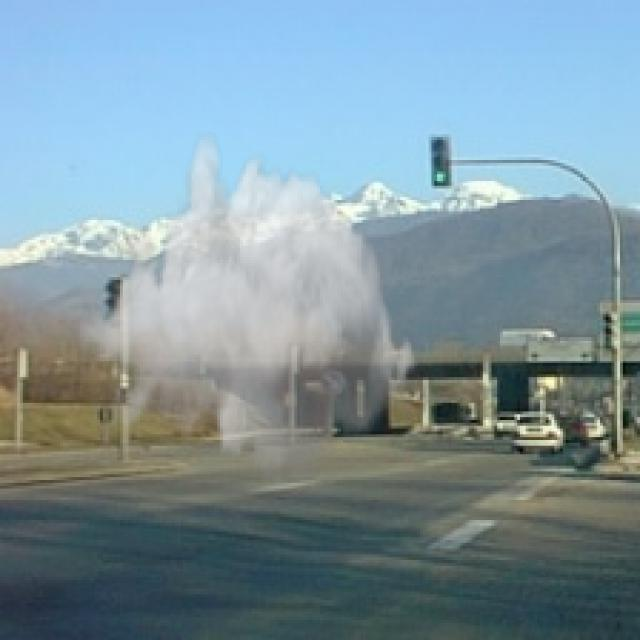Smoke: (77, 131, 420, 500)
